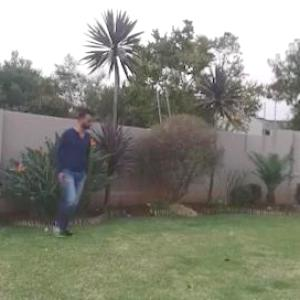follow: (52, 100, 90, 238)
